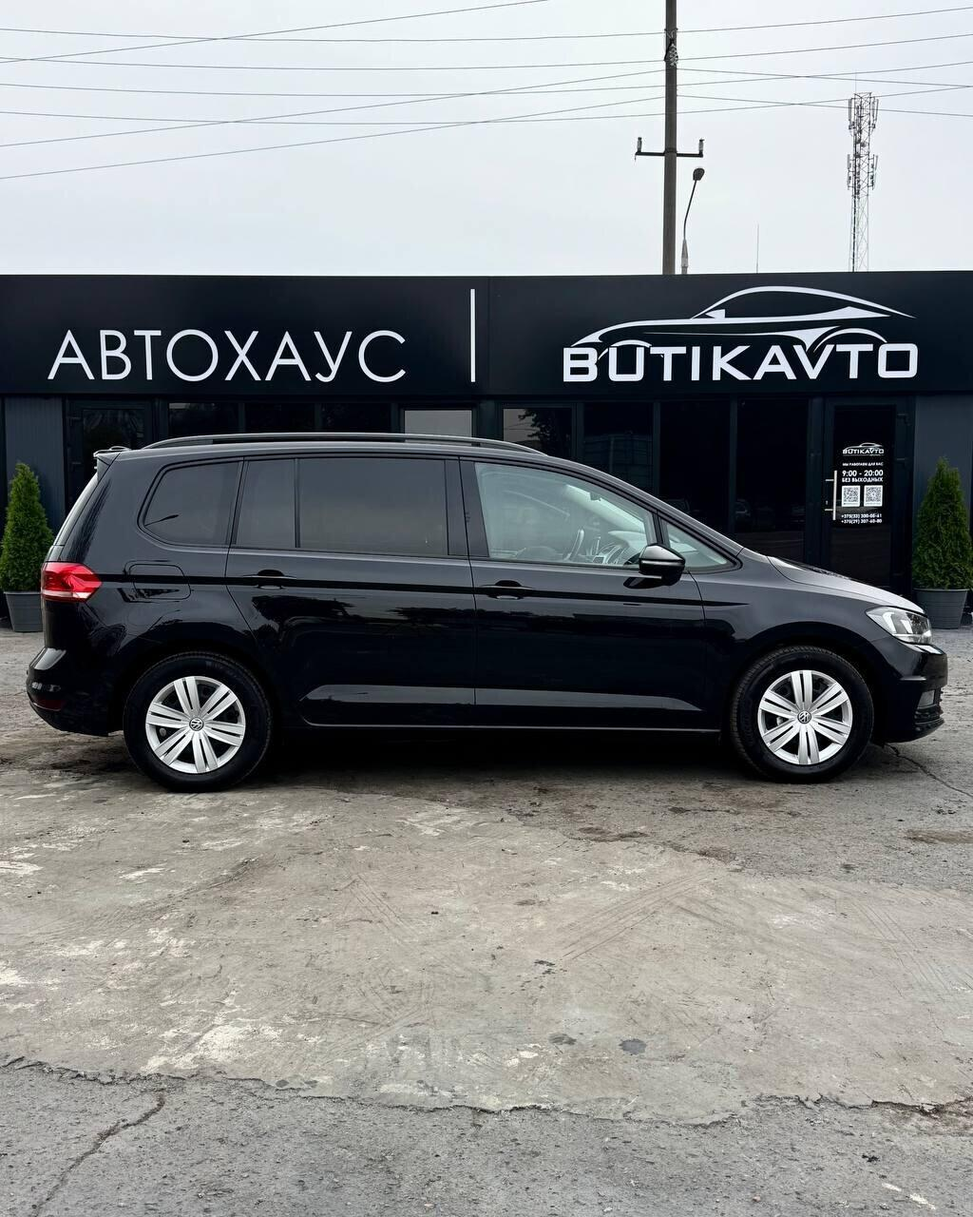Touran_2015: (30, 428, 952, 795)
